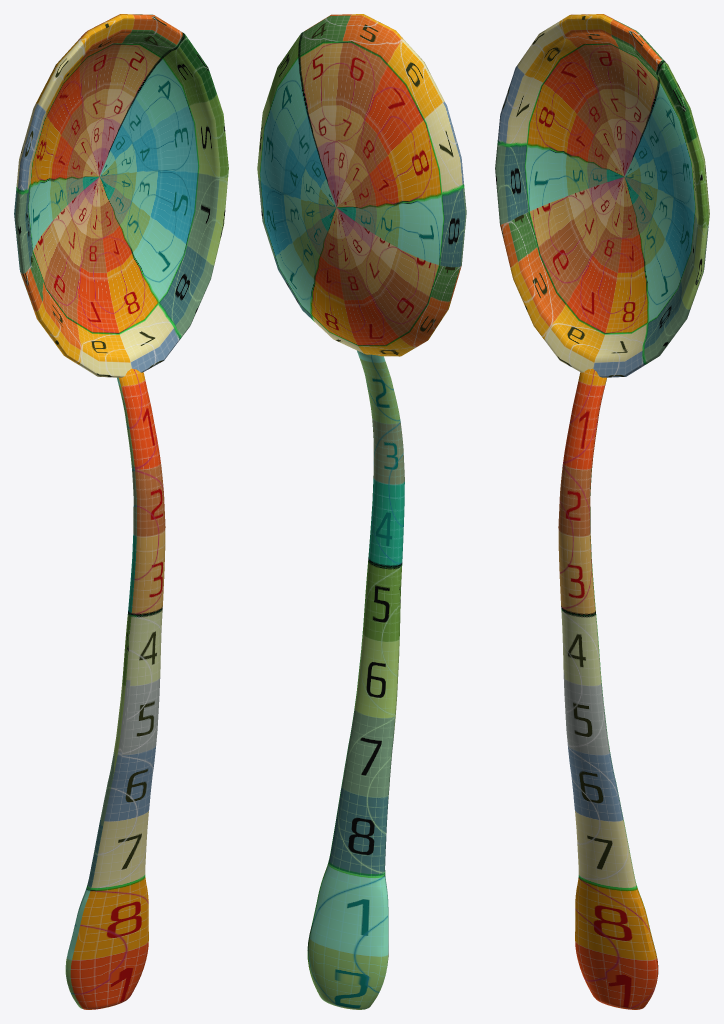
Rendered from spoon.glb.
3 renders of one model, left to right at view 1: azimuth 30°, elevation 25°; view 2: azimuth 150°, elevation 25°; view 3: azimuth 330°, elevation 25°, orthographic. The views are drawn at different scales.
Parts seen in each view (by area): view 1: pCylinder2; view 2: pCylinder2; view 3: pCylinder2.
Boxes of the visible parts, left/top/right/bottom form: pCylinder2: left=14, top=14, right=228, bottom=1009; pCylinder2: left=257, top=14, right=466, bottom=1009; pCylinder2: left=495, top=14, right=709, bottom=1009.
Bounding box in the file's own units: 1.06 × 4.79 × 0.5167.
Materials: 1 (1 with a texture image).
